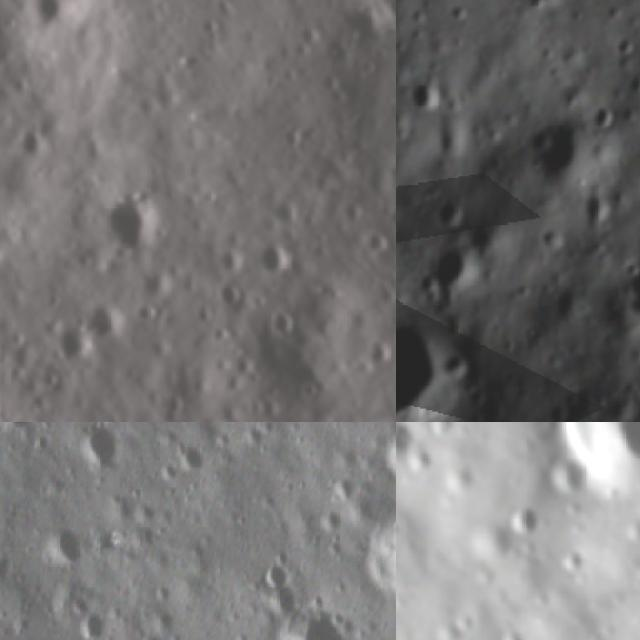crater: (87, 168, 187, 272), (534, 422, 640, 507), (396, 311, 463, 422), (525, 110, 598, 198), (73, 286, 135, 354), (243, 226, 308, 290), (20, 0, 104, 46), (45, 312, 103, 374), (2, 112, 60, 172), (257, 292, 311, 350), (126, 258, 180, 314), (364, 509, 396, 602), (432, 241, 479, 299), (352, 326, 396, 380), (273, 611, 353, 640), (208, 270, 255, 316), (504, 494, 546, 540), (45, 525, 85, 573), (431, 188, 466, 240), (74, 433, 120, 470), (63, 591, 97, 640), (550, 543, 595, 580), (166, 442, 207, 482), (411, 78, 445, 118), (614, 265, 640, 314), (376, 145, 396, 203), (585, 103, 617, 134), (253, 566, 287, 594), (384, 425, 396, 485), (95, 407, 139, 422), (396, 422, 407, 467)
